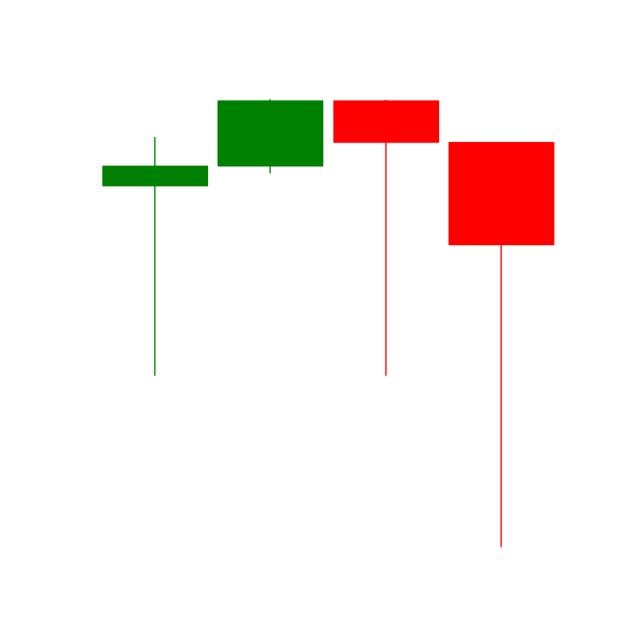Hanging Man: (449, 131, 563, 556), (328, 96, 444, 378)
Long-Legged Doji: (101, 133, 210, 383)
